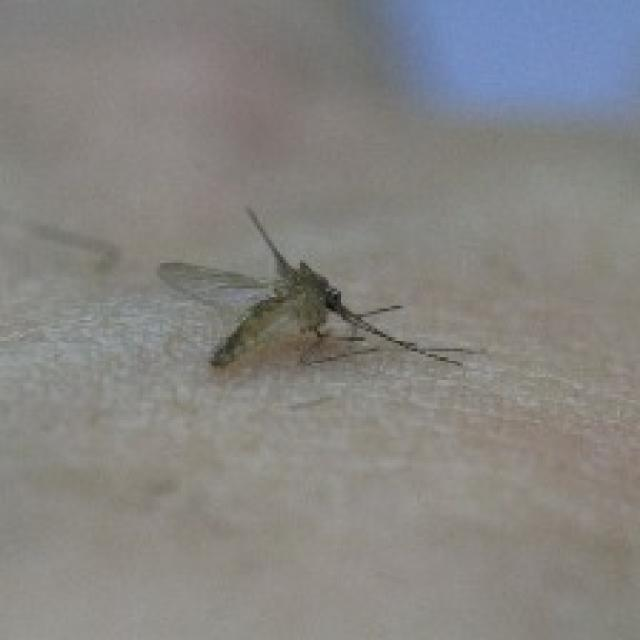culex: (154, 203, 480, 371)
